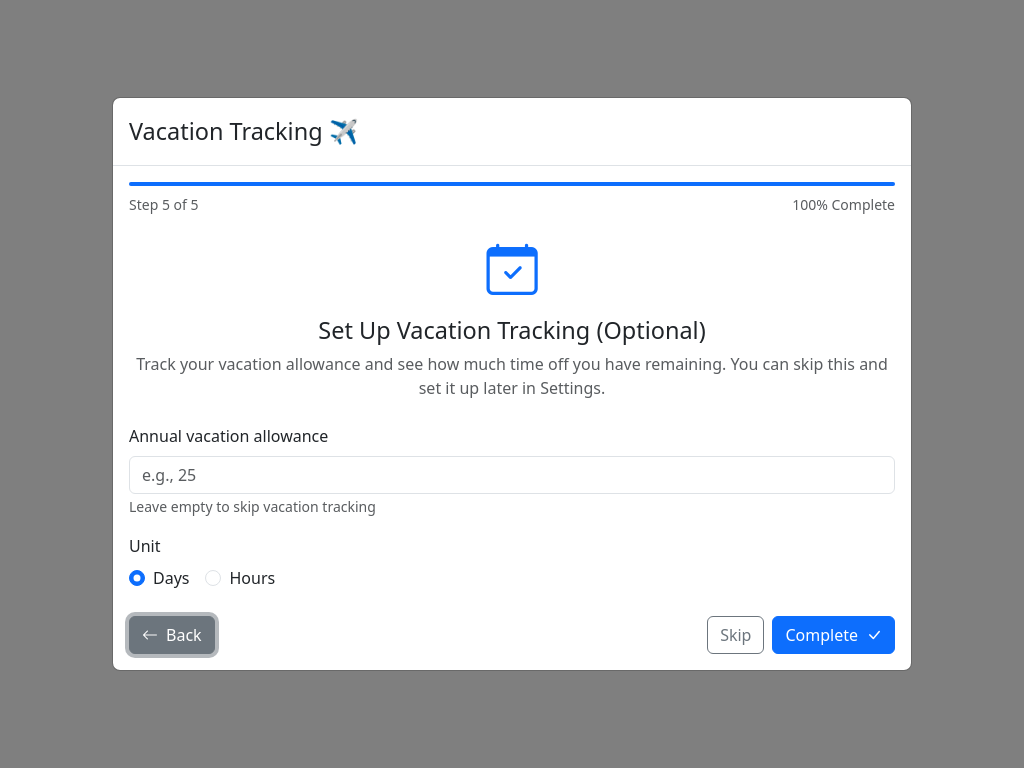
Scenario: WelcomeWizard › Vacation Allowance Step › should allow navigating back from vacation allowance step
This screenshot has width=1024, height=768.
Click the button "Back".
click(172, 635)  # box [129,616,215,654]
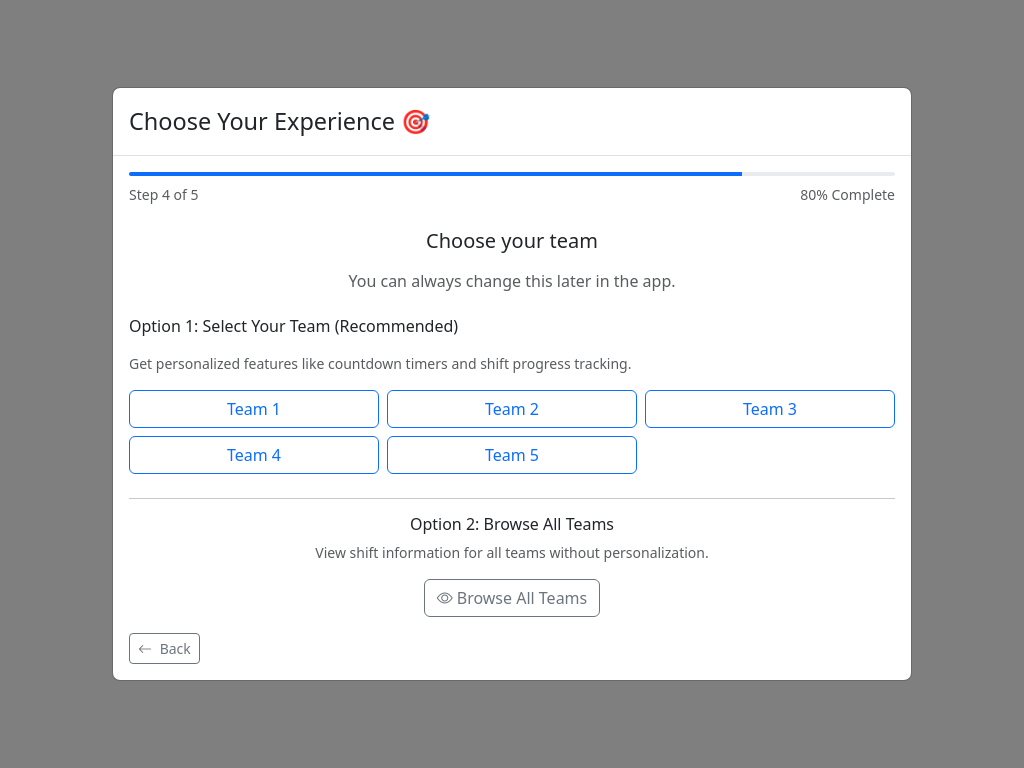
Check: the heading "Choose your team" is shown, box [426,227,598,254]
